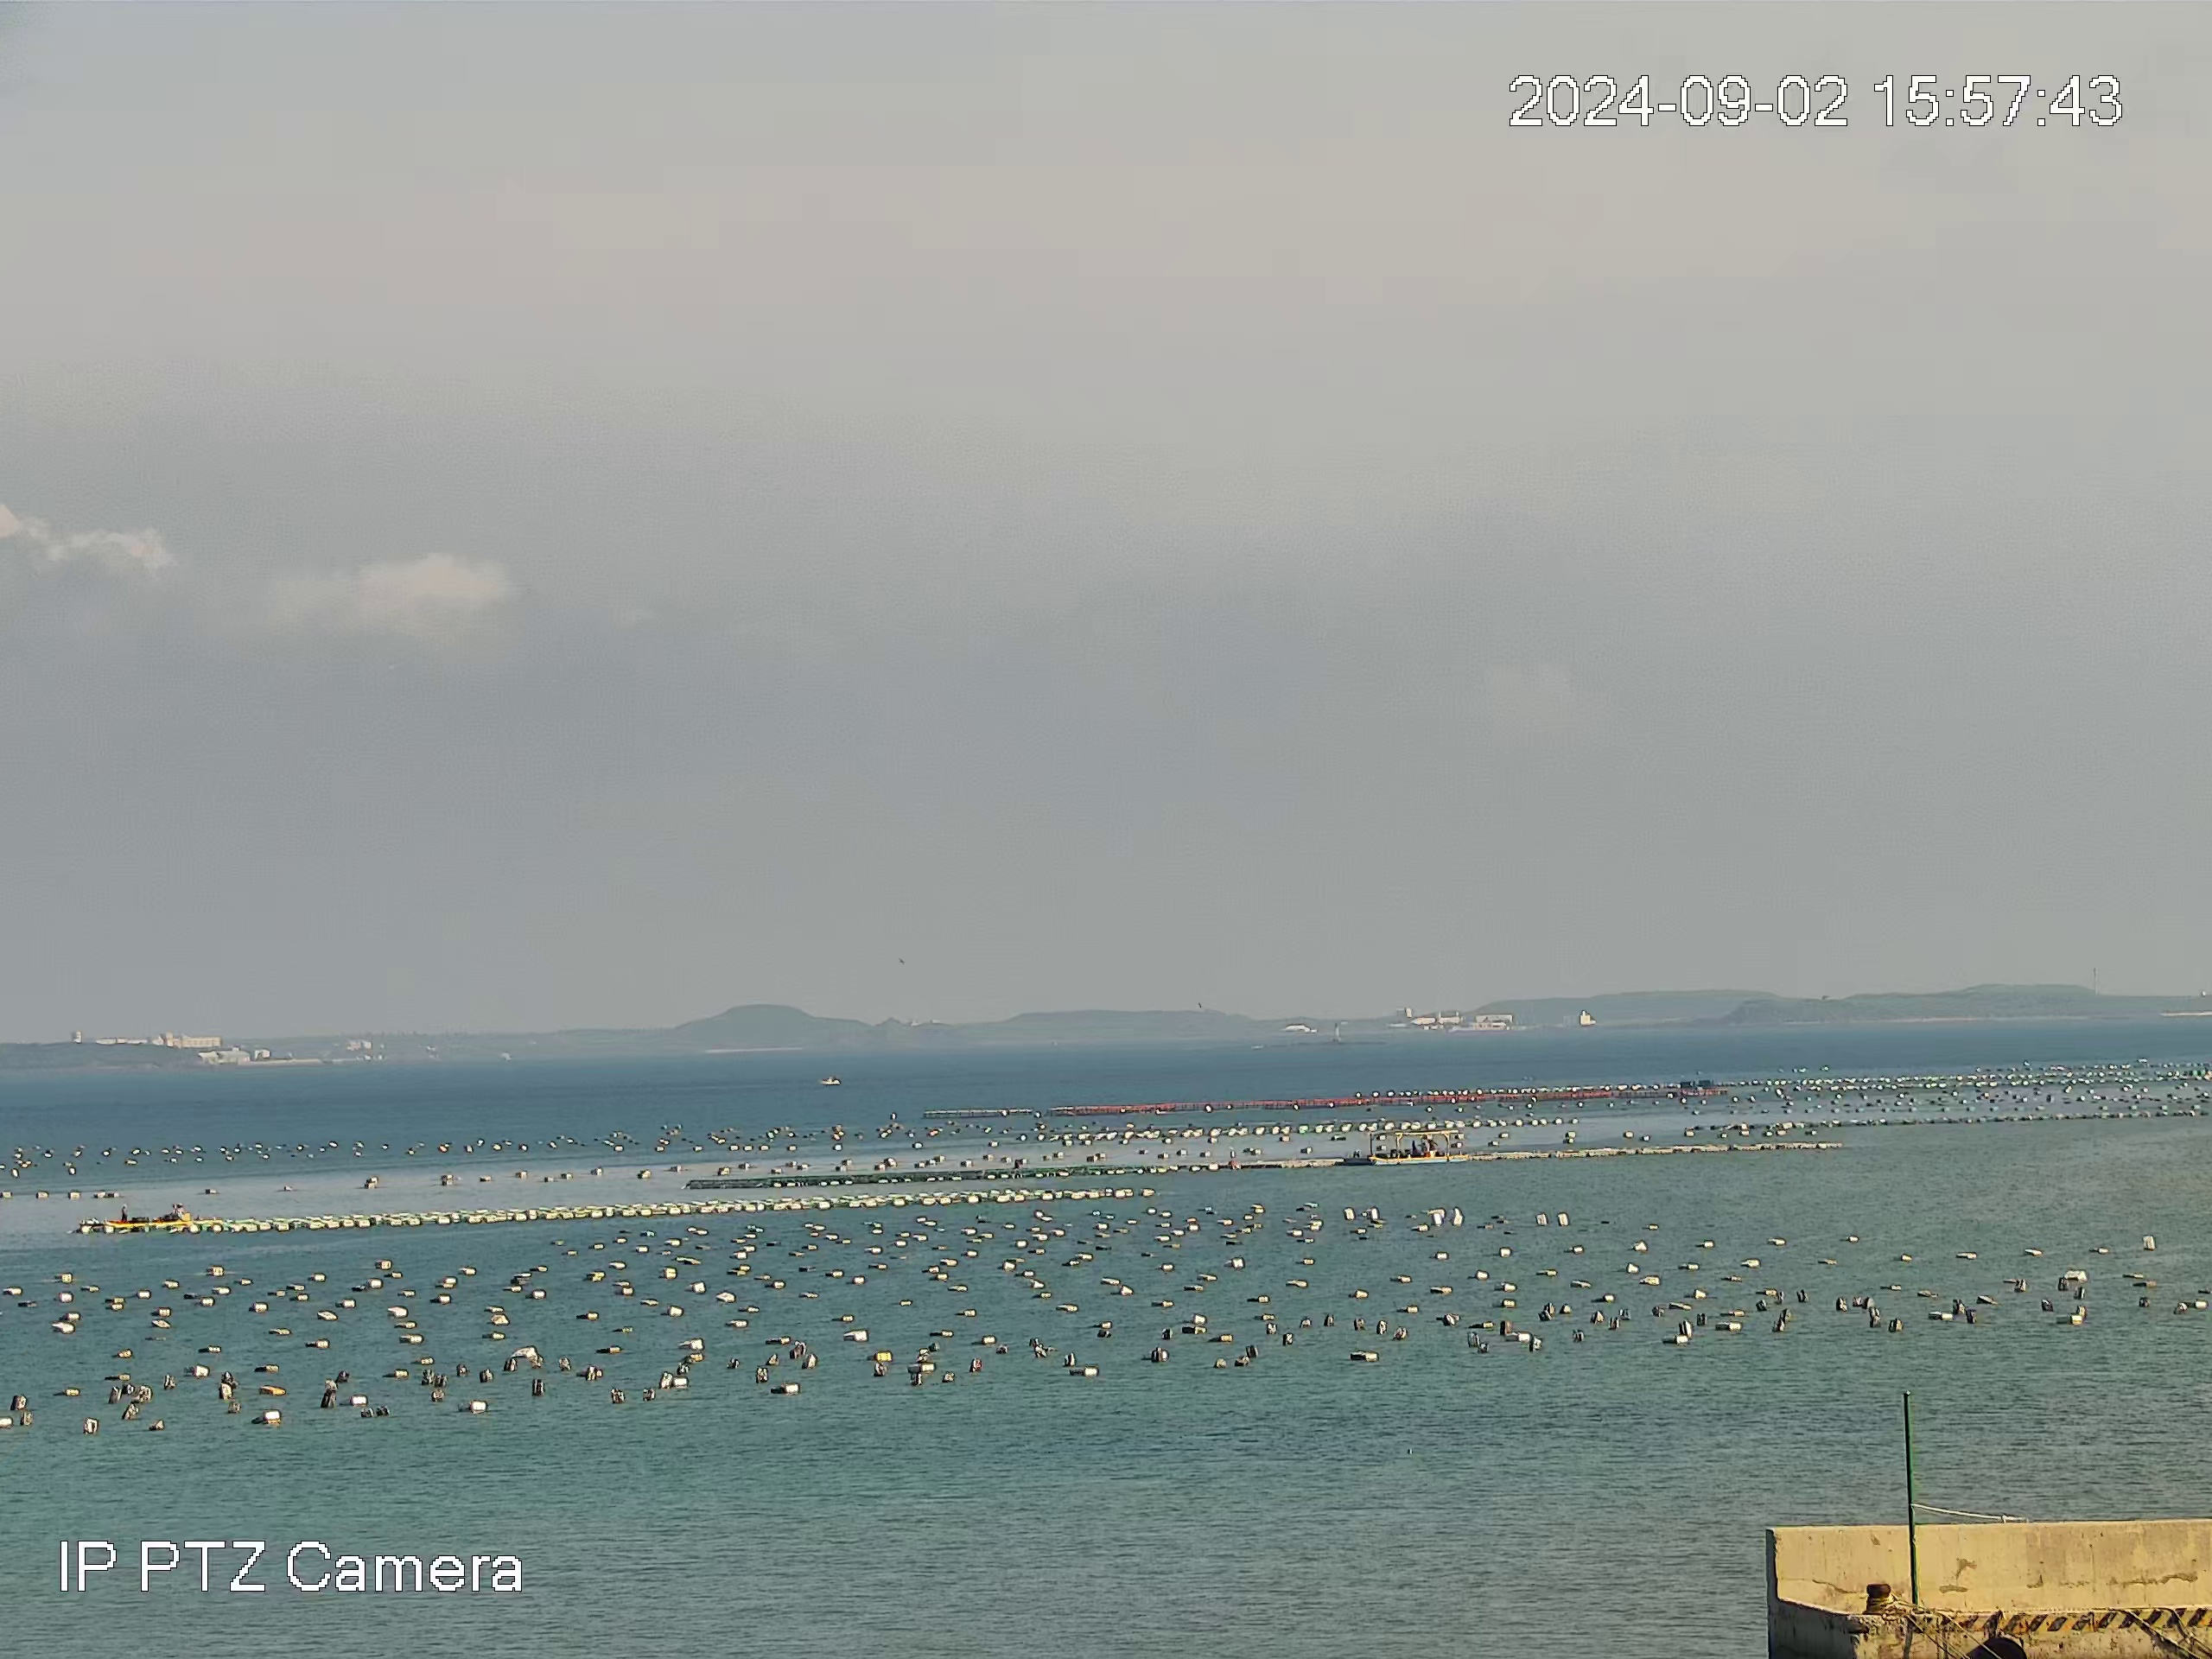boat: (1366, 1129, 1470, 1166), (103, 1201, 226, 1225), (819, 1073, 843, 1086)
